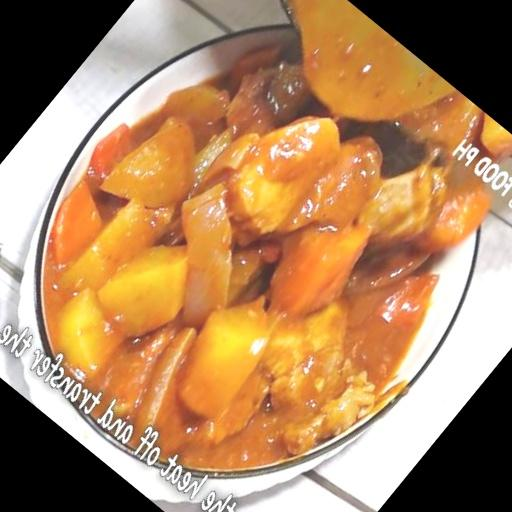pork caldereta: (41, 0, 463, 466)
